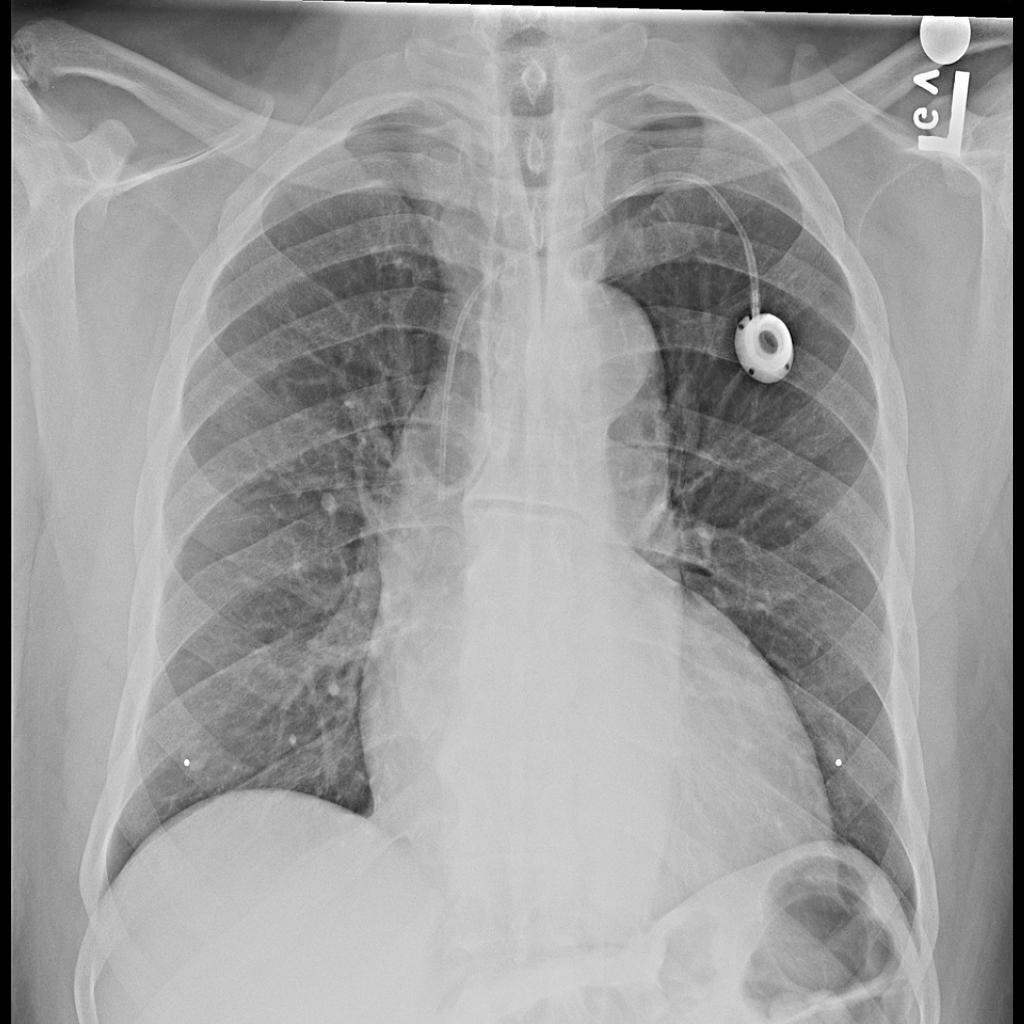Nodule: (179, 739, 213, 775)
